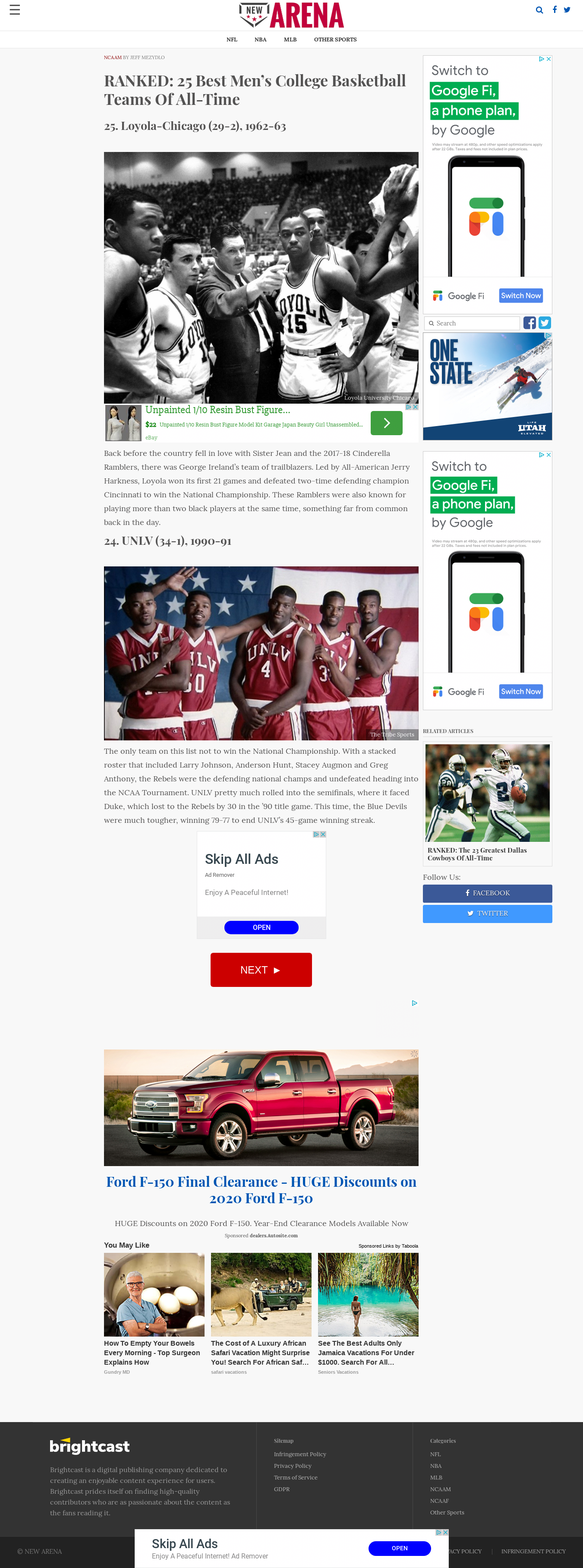fake_button: (183, 936, 340, 1000)
